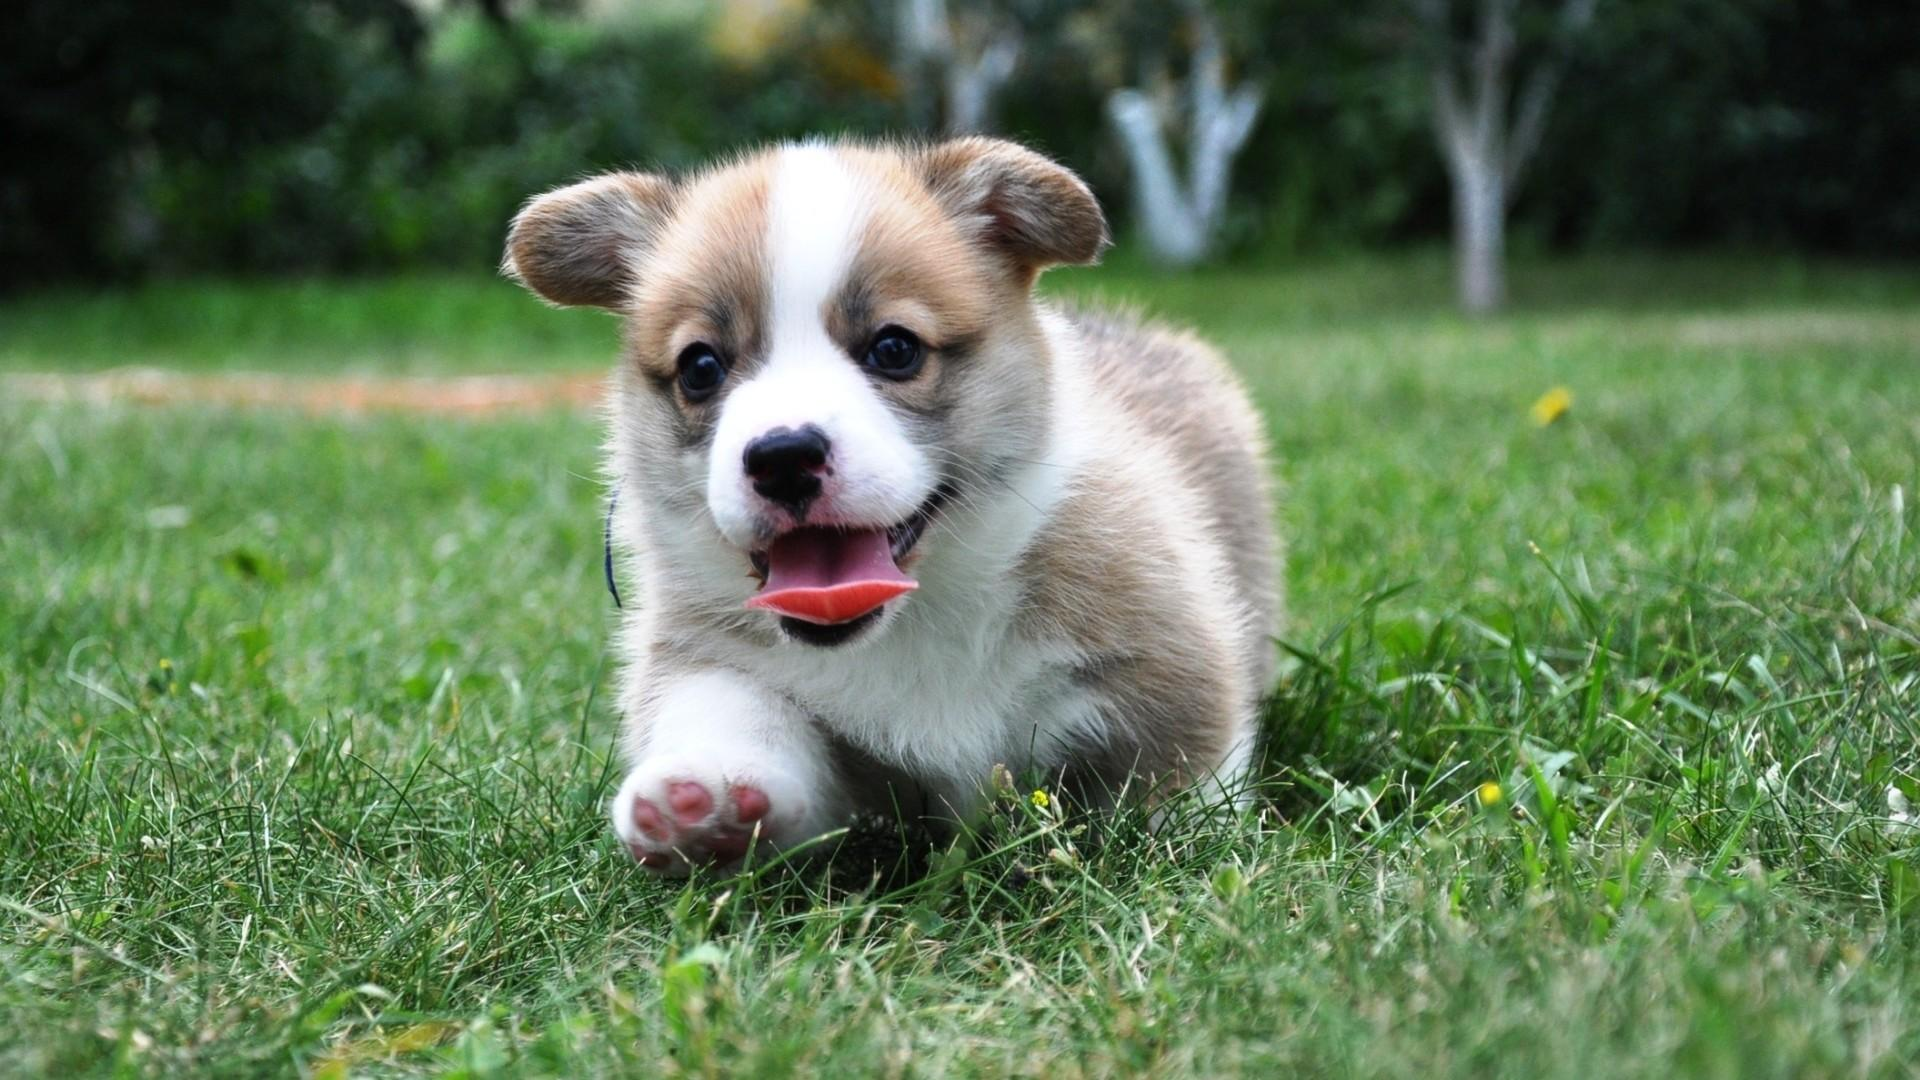dog: (502, 125, 1320, 873)
